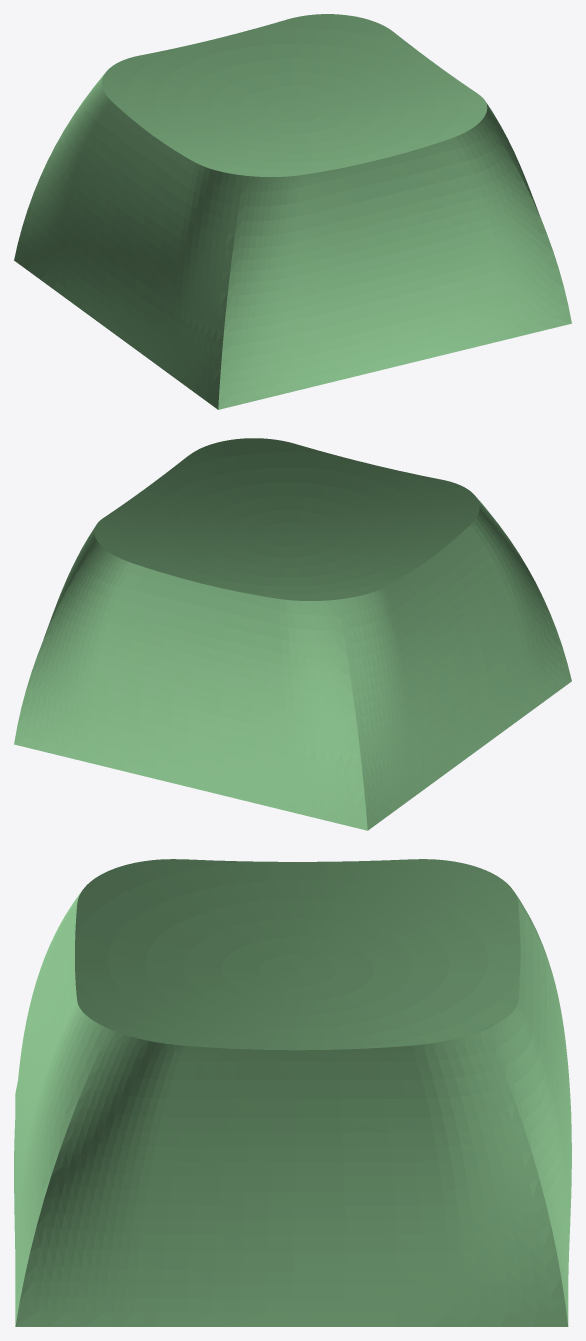
Rendered from XDA.gltf.
The picture shows the model from 3 angles, top to bottom: view 1: azimuth 30°, elevation 25°; view 2: azimuth 150°, elevation 25°; view 3: azimuth 270°, elevation 25°; orthographic projection. The views are drawn at different scales.
Parts seen in each view (by area): view 1: XDA-1U-Master v66; view 2: XDA-1U-Master v66; view 3: XDA-1U-Master v66.
Part boxes in pixels (<box>): XDA-1U-Master v66: <box>14,14,571,409</box>; XDA-1U-Master v66: <box>14,438,571,830</box>; XDA-1U-Master v66: <box>14,859,571,1326</box>.
Size of the model in its own units: 1.85 by 0.96 by 1.85.
